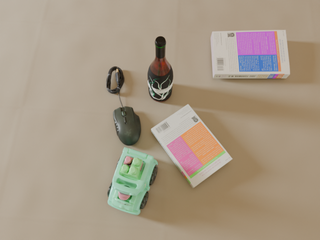book: (151, 104, 232, 188), (211, 30, 290, 78)
bottle: (148, 36, 173, 102)
mouse: (113, 106, 141, 146)
toy_car: (107, 147, 158, 215)
